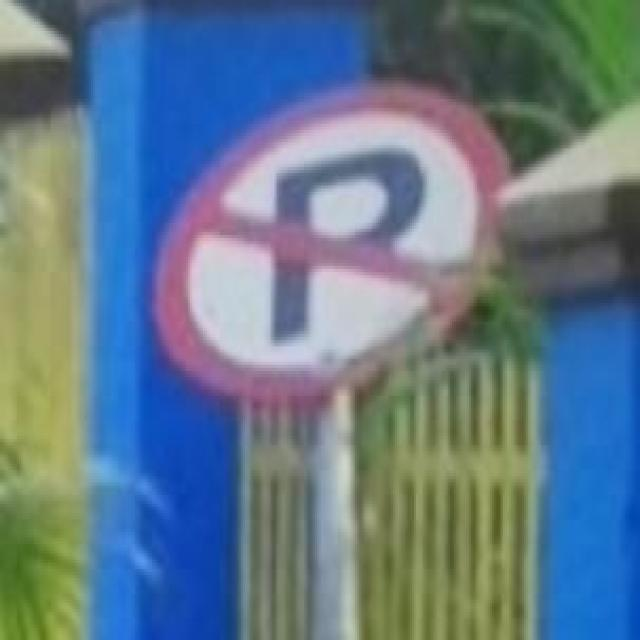traffic sign: (154, 84, 513, 393)
